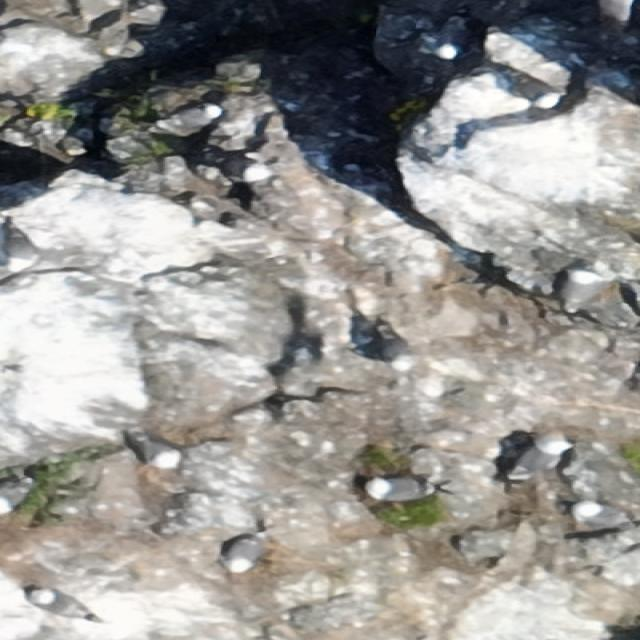umineko: (27, 587, 106, 625), (500, 67, 566, 110), (507, 437, 567, 479), (373, 324, 419, 374), (560, 268, 606, 312), (130, 433, 180, 471), (436, 12, 470, 63), (571, 503, 634, 529), (226, 536, 263, 573), (366, 478, 431, 499), (209, 157, 263, 181), (166, 107, 218, 129), (2, 480, 28, 507)
